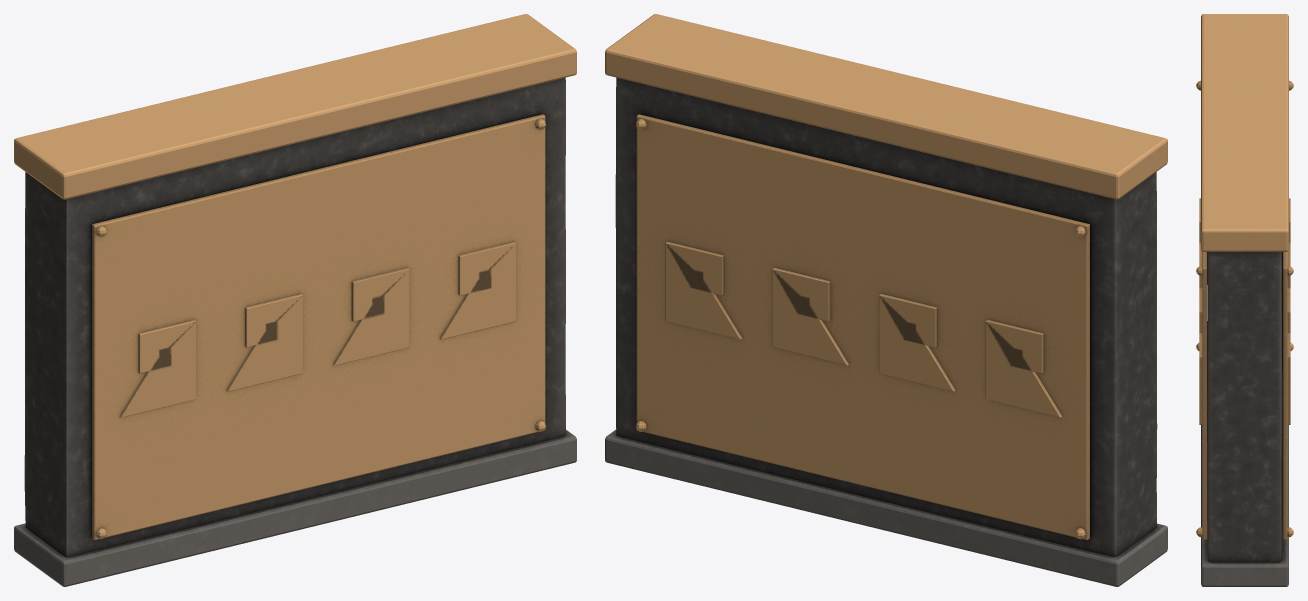
The model's file is dg_parede_bronze.glb.
3 renders of one model, left to right at view 1: azimuth 30°, elevation 25°; view 2: azimuth 150°, elevation 25°; view 3: azimuth 270°, elevation 25°, orthographic. The views are drawn at different scales.
Visible parts, largest first — view 1: dg_parede_bronze_tronco; view 2: dg_parede_bronze_tronco; view 3: dg_parede_bronze_tronco.
Boxes of the visible parts, x1,y1,x2,y2 form: dg_parede_bronze_tronco: (14, 14, 576, 586); dg_parede_bronze_tronco: (605, 14, 1167, 586); dg_parede_bronze_tronco: (1196, 14, 1293, 586).
Bounding box in the file's own units: 4.1 × 3.15 × 0.78.
Materials: 1 (1 with a texture image).
